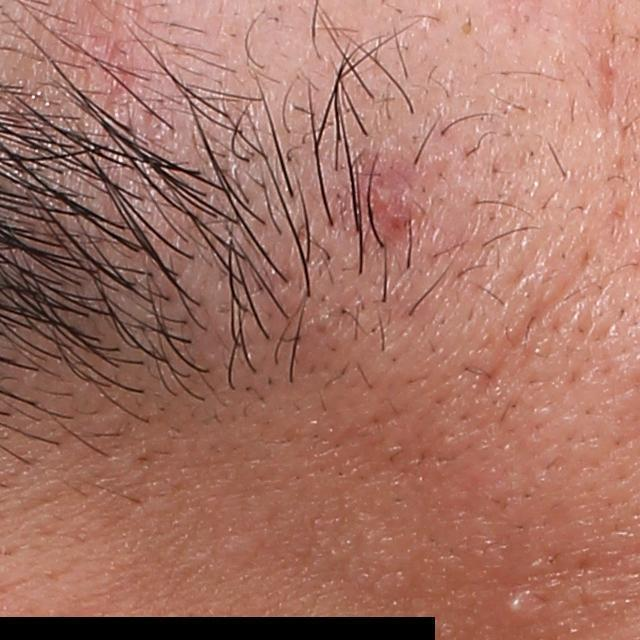atrophic_scar: (484, 276, 583, 394), (595, 41, 625, 120)
comedo: (454, 18, 478, 42)
pustule: (499, 589, 526, 619)
